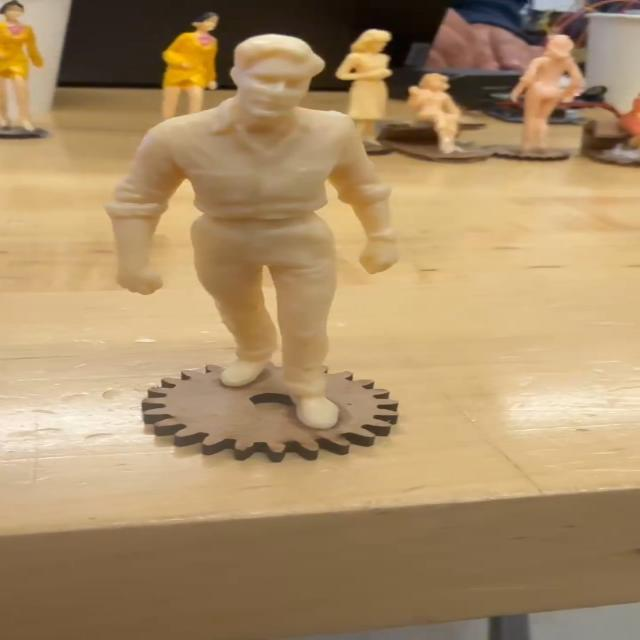Unauthorized: (75, 15, 424, 443)
